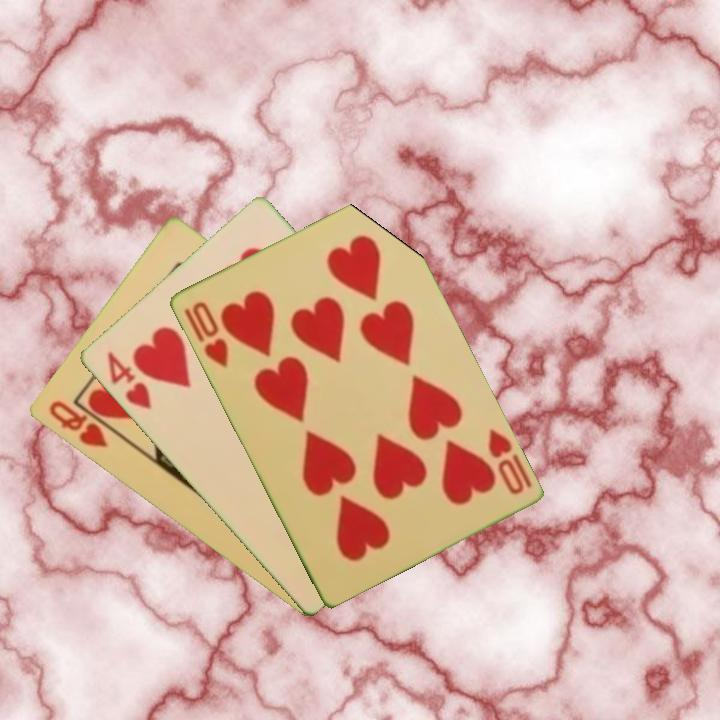10h: (483, 424, 535, 498), (187, 297, 231, 371)
4h: (103, 347, 154, 412)
Qh: (45, 397, 110, 451)
